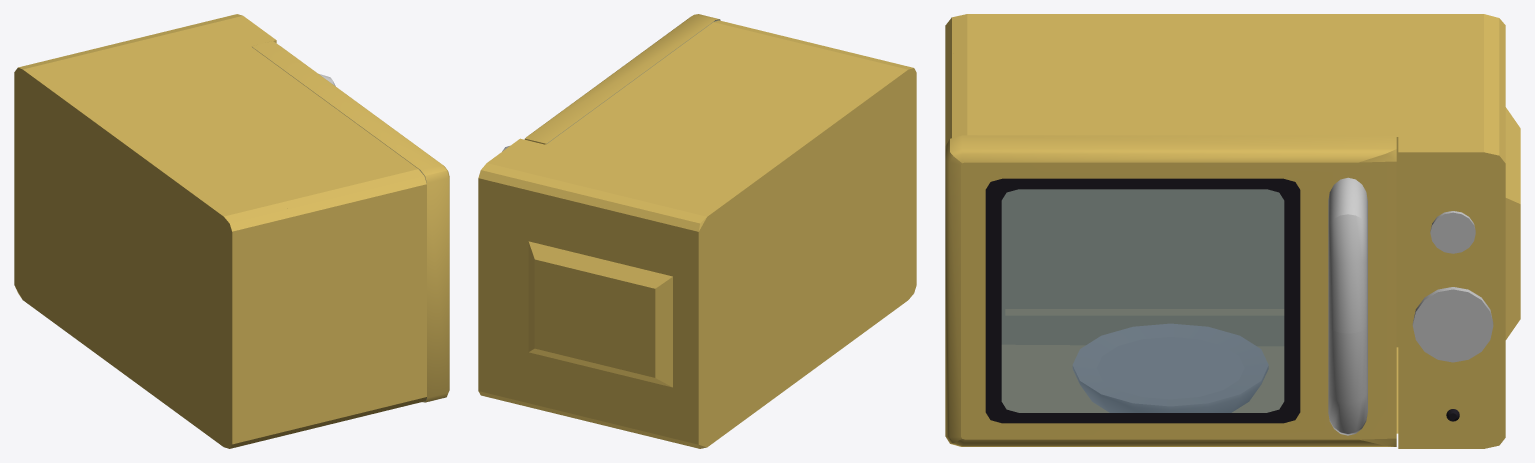
File: microwave.fbx
3 renders of one model, left to right at view 1: azimuth 30°, elevation 25°; view 2: azimuth 150°, elevation 25°; view 3: azimuth 270°, elevation 25°, orthographic. The views are drawn at different scales.
Visible parts, largest first — view 1: Microwave; view 2: Microwave; view 3: Microwave.
Boxes of the visible parts, x1,y1,x2,y2 form: Microwave: [14, 14, 449, 448]; Microwave: [478, 14, 916, 448]; Microwave: [945, 14, 1520, 448].
Bounding box in the file's own units: 529 × 435 × 760.
